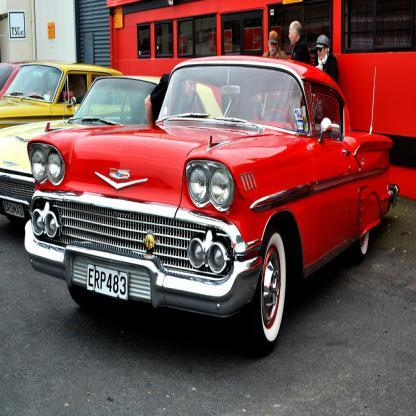car: (24, 47, 398, 354), (0, 73, 223, 220), (0, 58, 124, 129)
